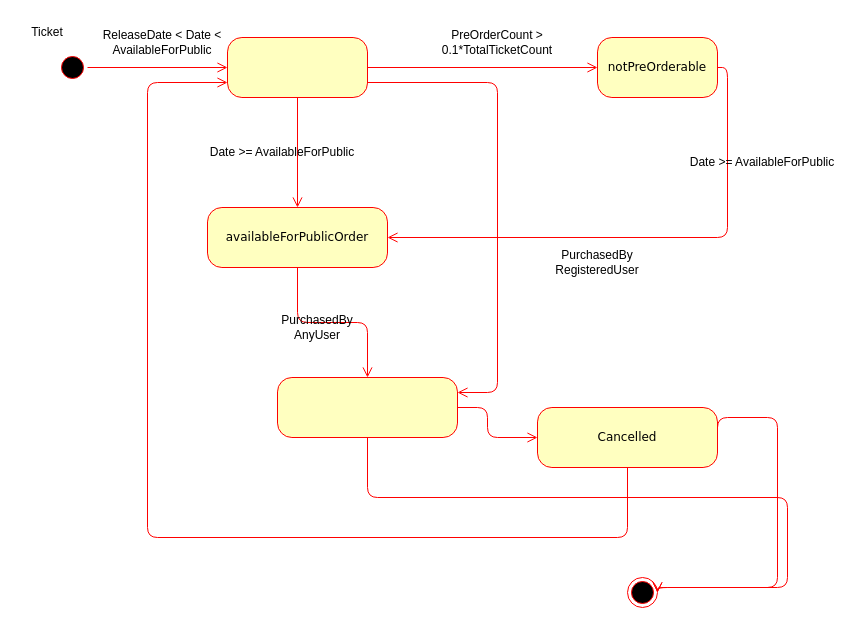
This 864x625 diagram has some shape labels left out. Each missing label, with the box of its shape:
avilableforPreOrder: (226, 36, 368, 98)
Purchased: (276, 376, 458, 438)
